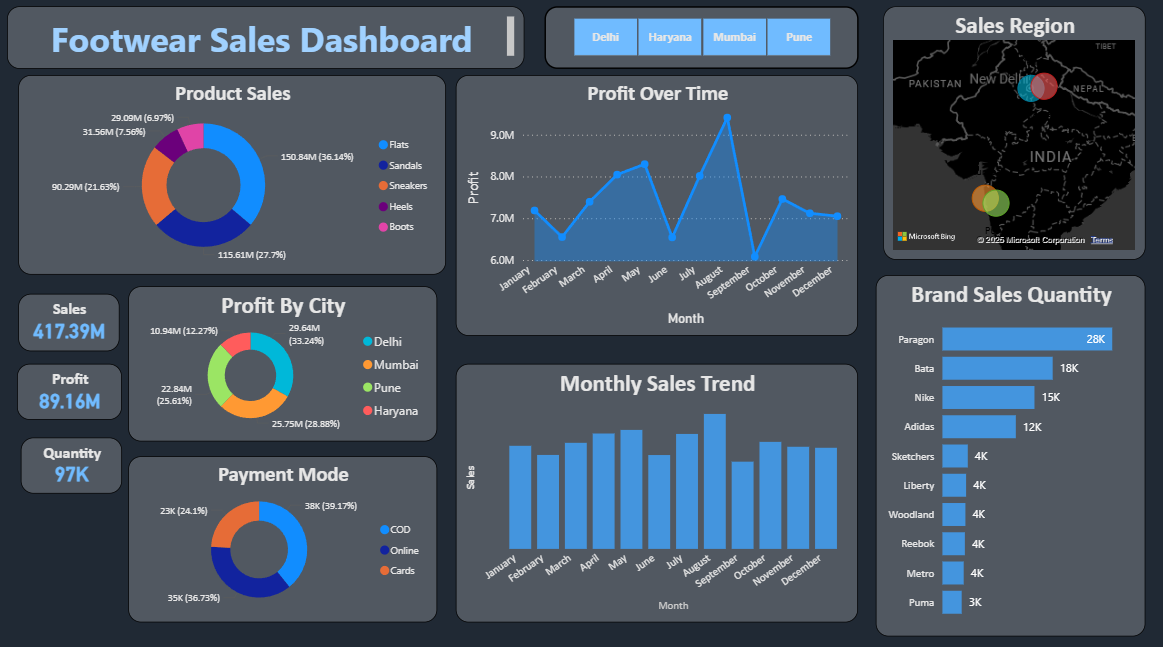

What the dashboard file says about the page in this screenshot:
{"tool":"powerbi","page":{"name":"Page 1","canvas":[1280,720],"ordinal":0},"visuals":[{"type":"donutChart","title":"Profit By City","fields":{"Category":["Sheet1.City"],"Y":["Sum(Sheet1.Total Profit)"]},"box":[144.1,319.7,338.9,170.2],"z":0},{"type":"map","title":"Sales Region","fields":{"Category":["Sheet1.City"]},"box":[972.9,12.3,288.2,278.6],"z":1000},{"type":"columnChart","title":"Monthly Sales Trend","fields":{"Category":["Sheet1.Date.Variation.Date Hierarchy.Month"],"Y":["Sum(Sheet1.Total Profit)"]},"box":[503.6,404.8,441.9,284],"z":2000},{"type":"clusteredBarChart","title":"Brand Sales Quantity","fields":{"Category":["Sheet1.Brand"],"Y":["Sum(Sheet1.Quantity Sold)"]},"box":[964.7,307.4,296.4,396.6],"z":3000},{"type":"textbox","box":[11,12.3,568.1,68.6],"z":4000},{"type":"slicer","fields":{"Values":["Sheet1.City"]},"box":[601,12.3,344.4,68.6],"z":5000},{"type":"card","title":"Profit","fields":{"Values":["Sum(Sheet1.Total Profit)"]},"box":[22,404.8,115.3,61.7],"z":6000},{"type":"card","title":"Quantity","fields":{"Values":["Sum(Sheet1.Quantity Sold)"]},"box":[26.1,485.8,111.1,61.7],"z":8000},{"type":"lineChart","title":"Profit Over Time","fields":{"Category":["Sheet1.Date.Variation.Date Hierarchy.Month"],"Y":["Sum(Sheet1.Total Profit)"]},"box":[503.6,87.8,441.9,286.8],"z":9000},{"type":"donutChart","title":"Payment Mode","fields":{"Category":["Sheet1.Payment Mode"],"Y":["Sum(Sheet1.Quantity Sold)"]},"box":[144.1,506.3,338.9,182.5],"z":10000},{"type":"card","title":"Sales","fields":{"Values":["Sum(Sheet1.Total Revenue)"]},"box":[23.3,328,111.1,63.1],"z":11000},{"type":"donutChart","title":"Product Sales","fields":{"Category":["Sheet1.Product"],"Y":["Sum(Sheet1.Total Revenue)"]},"box":[23.3,87.8,469.3,219.6],"z":11001}]}

Visuals, with their boxes in screenshot pixels (x1, y1, x2, y2), scaled from the page's 1280x720 canvas onto the 1163x647 screenshot:
"Profit By City" donutChart: BBox(131, 287, 439, 440)
"Sales Region" map: BBox(884, 11, 1146, 261)
"Monthly Sales Trend" columnChart: BBox(458, 364, 859, 619)
"Brand Sales Quantity" clusteredBarChart: BBox(877, 276, 1146, 633)
textbox: BBox(10, 11, 526, 73)
slicer - Sheet1.City: BBox(546, 11, 859, 73)
"Profit" card: BBox(20, 364, 125, 419)
"Quantity" card: BBox(24, 437, 125, 492)
"Profit Over Time" lineChart: BBox(458, 79, 859, 337)
"Payment Mode" donutChart: BBox(131, 455, 439, 619)
"Sales" card: BBox(21, 295, 122, 351)
"Product Sales" donutChart: BBox(21, 79, 448, 276)
